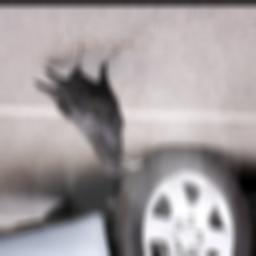Crow: (31, 41, 142, 179)
